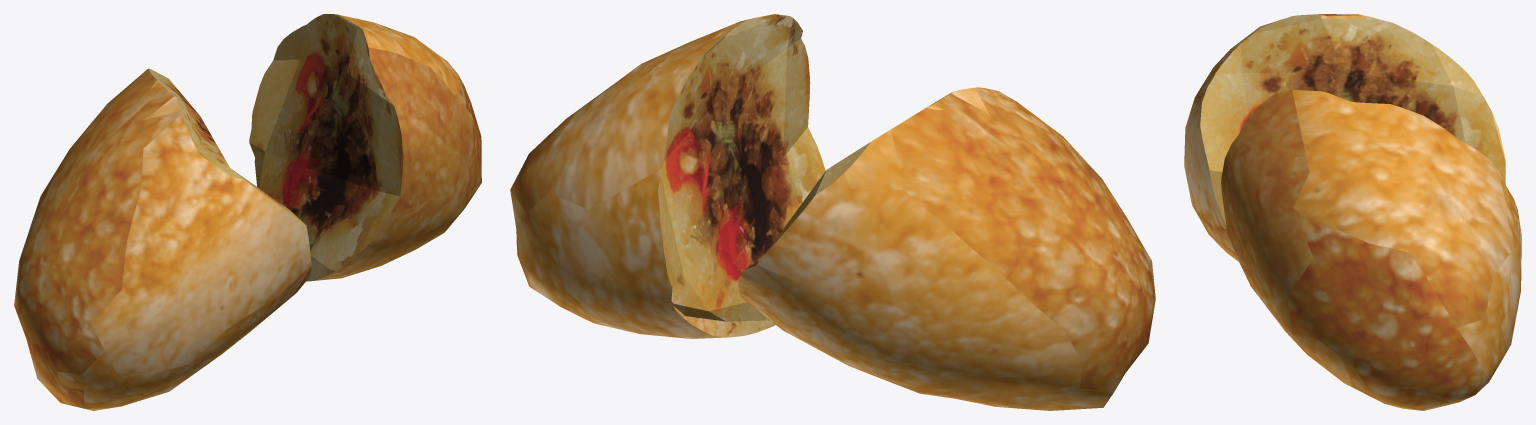
The model's file is luti6.fbx.
3 views of the same model, side by side, from view 1: azimuth 30°, elevation 25°; view 2: azimuth 150°, elevation 25°; view 3: azimuth 270°, elevation 25° (orthographic). The views are drawn at different scales.
Parts seen in each view (by area): view 1: luti6; view 2: luti6; view 3: luti6.
Boxes of the visible parts, x1,y1,x2,y2 form: luti6: (14, 14, 481, 410); luti6: (510, 14, 1155, 410); luti6: (1184, 14, 1521, 410).
Size of the model in its own units: 12.67 by 7.16 by 6.95.
